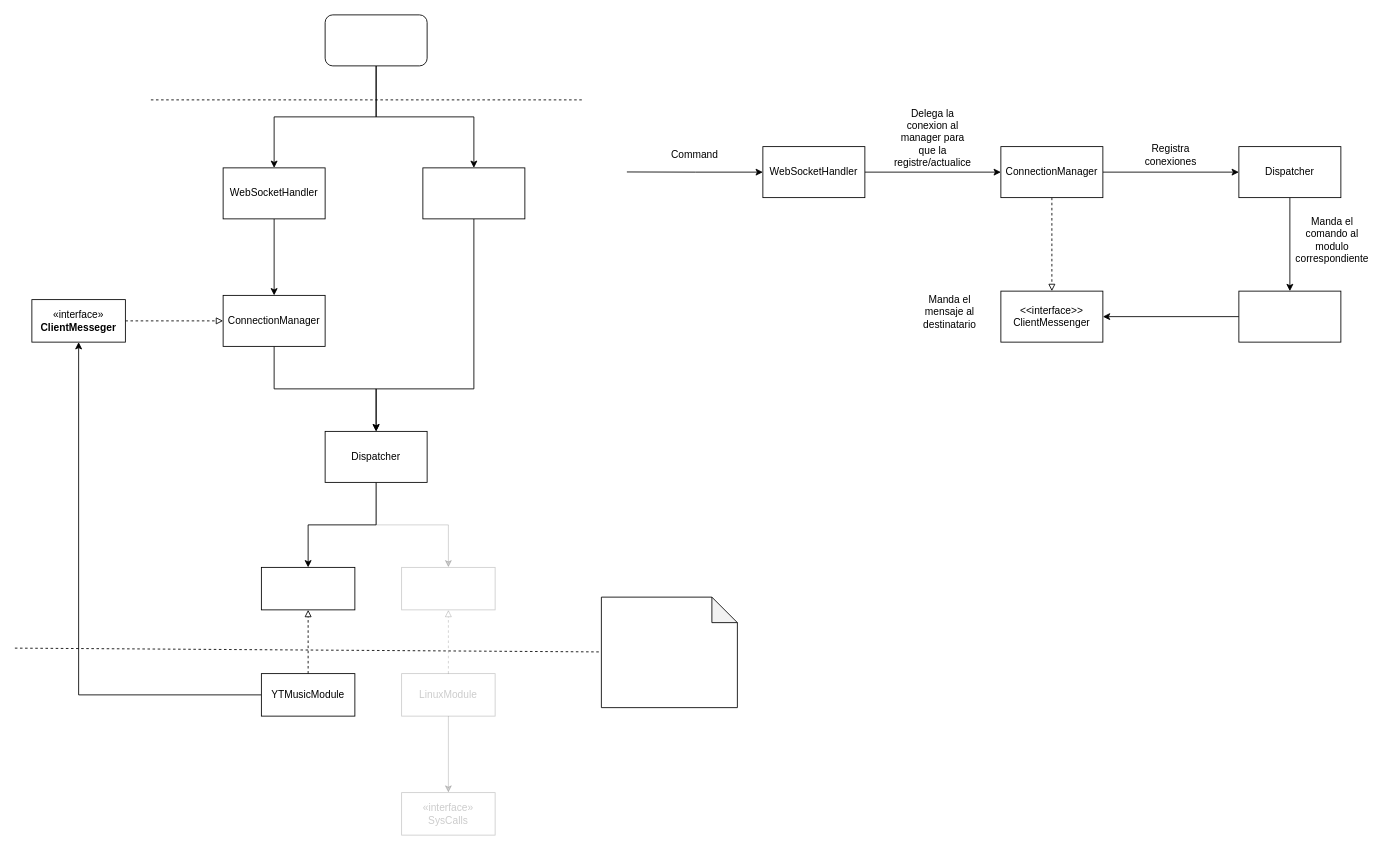
Some shapes in this 1384 by 850 pixel diagram are drawn without their labels. The shapes that lost their labels are listed below. From the top down, each one's box as (x1, y1, x2, y2) in pixels, then its label:
(324, 14, 427, 66): WebSocketServer
(422, 167, 525, 219): HTTPHandler
(1238, 290, 1341, 342): Player Module
(261, 567, 355, 610): «interface» PlayerModule
(401, 567, 495, 610): «interface» SystemModule
(601, 596, 737, 708): Se pueden implementar modulos para otros reproductores y SO
